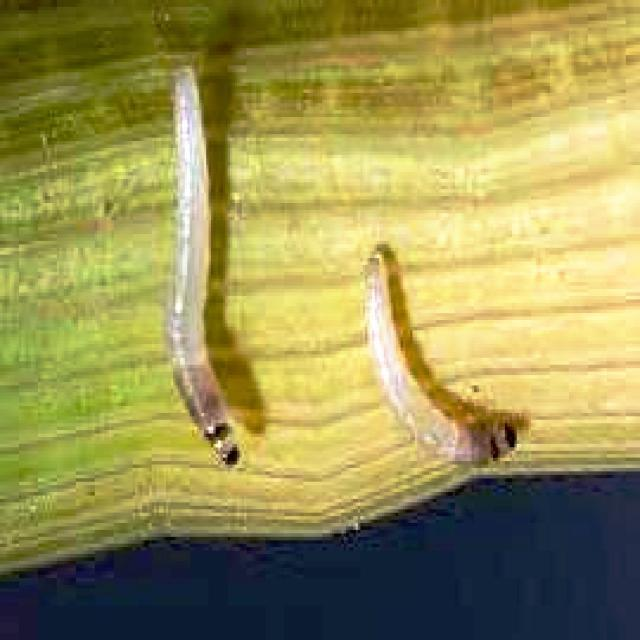whorl-maggot: (359, 244, 531, 478), (157, 51, 251, 477)
